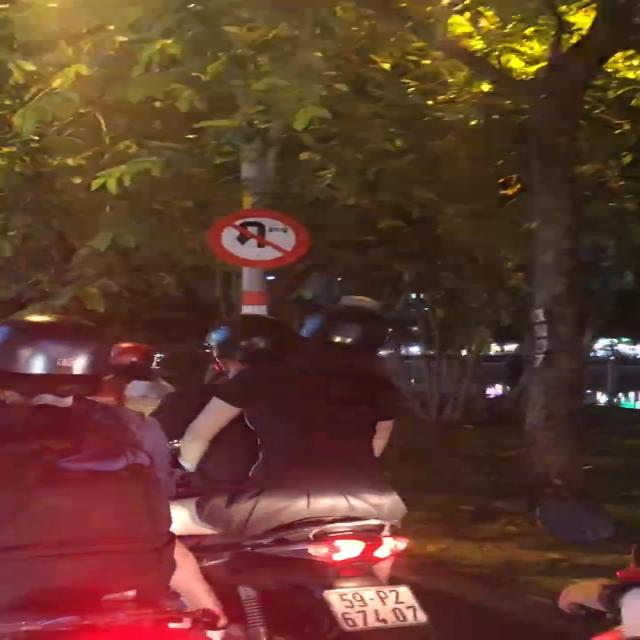Bien bao cam quay dau xe: (200, 206, 320, 270)
